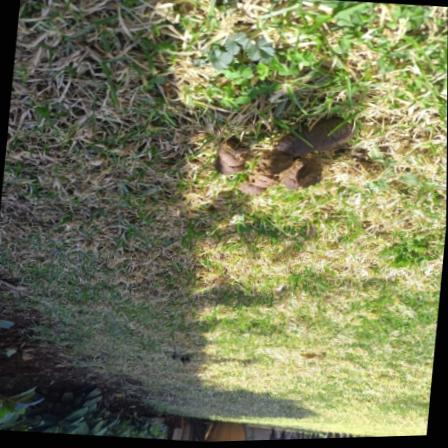dog-poop: (213, 108, 351, 211)
